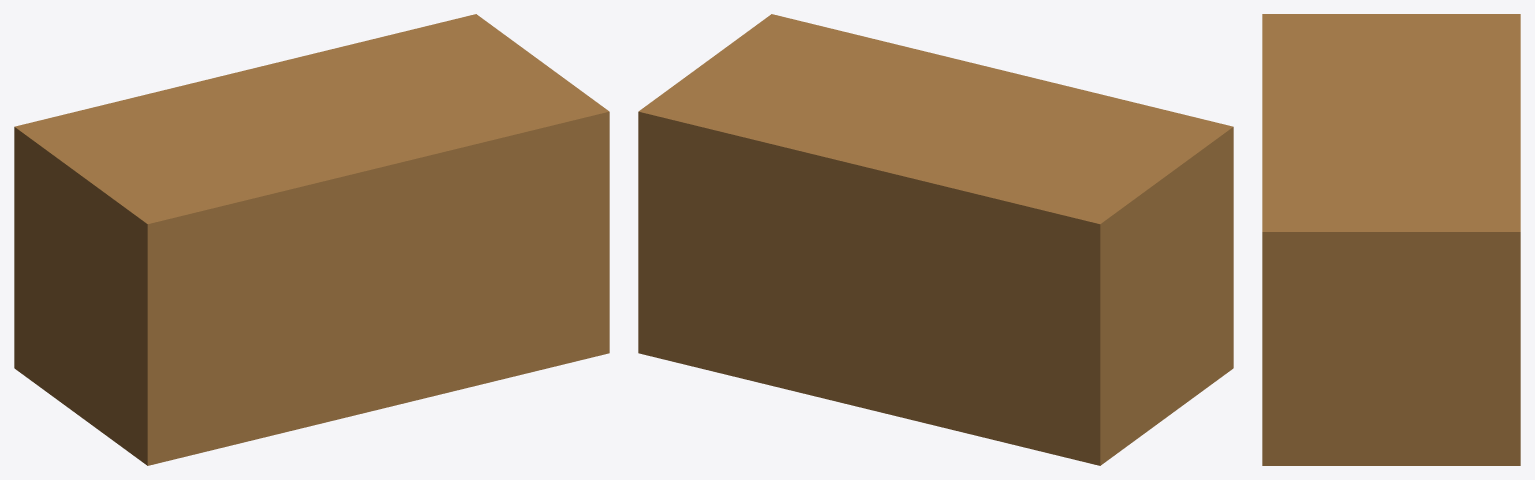
The model's file is case_308_h_winchester.glb.
3 views of the same model, side by side, from view 1: azimuth 30°, elevation 25°; view 2: azimuth 150°, elevation 25°; view 3: azimuth 270°, elevation 25° (orthographic). The views are drawn at different scales.
Parts seen in each view (by area): view 1: cartridge:cartridge-model; view 2: cartridge:cartridge-model; view 3: cartridge:cartridge-model.
Part boxes in pixels (bbox=[...]): cartridge:cartridge-model: bbox=[14, 14, 609, 465]; cartridge:cartridge-model: bbox=[638, 14, 1233, 465]; cartridge:cartridge-model: bbox=[1262, 14, 1520, 465].
Size of the model in its own units: 0.04 by 0.02 by 0.02.
